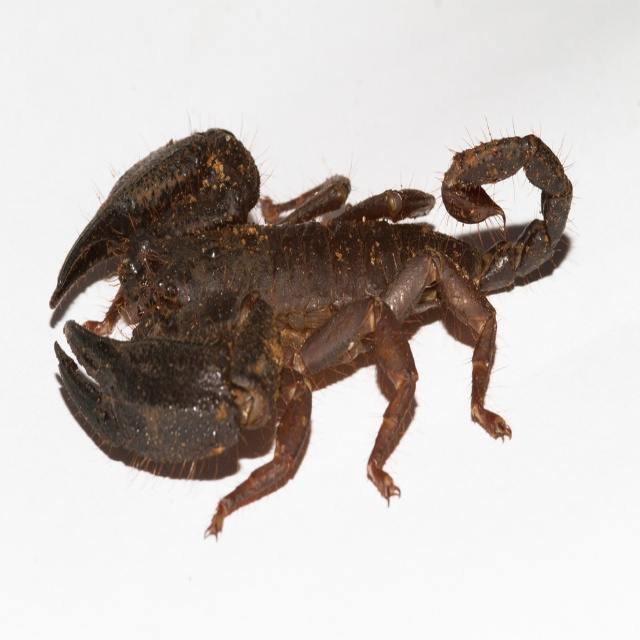Scorpion: (48, 123, 579, 537)
